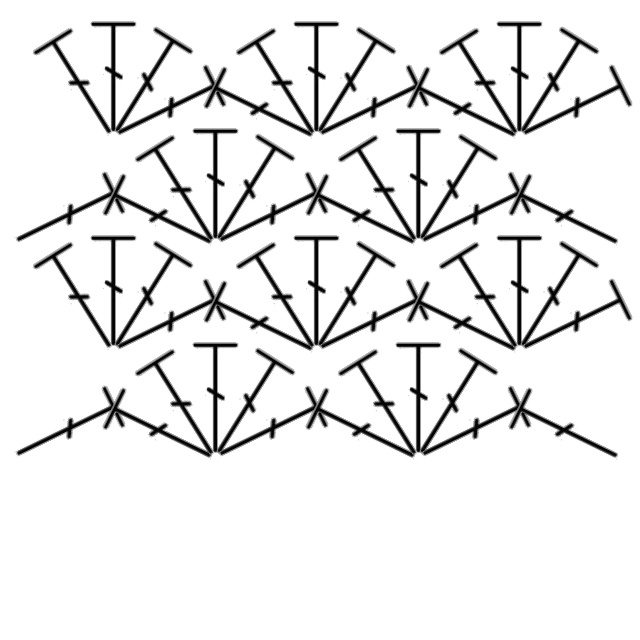double treble: (30, 22, 135, 149), (93, 22, 198, 149), (233, 22, 338, 149), (296, 22, 401, 149), (436, 22, 541, 149), (499, 22, 604, 149), (132, 129, 237, 256), (195, 129, 300, 256), (335, 129, 440, 256), (398, 129, 503, 256), (30, 236, 135, 363), (93, 236, 198, 363), (233, 236, 338, 363), (296, 236, 401, 363), (436, 236, 541, 363), (499, 236, 604, 363), (132, 343, 237, 470), (195, 343, 300, 470), (335, 343, 440, 470), (398, 343, 503, 470), (103, 61, 232, 158), (199, 61, 328, 158), (306, 61, 435, 158), (402, 61, 531, 158), (509, 61, 638, 158), (2, 168, 131, 265), (98, 168, 227, 265), (205, 168, 334, 265), (301, 168, 430, 265), (408, 168, 537, 265), (504, 168, 633, 265), (103, 275, 232, 372), (199, 275, 328, 372), (306, 275, 435, 372), (402, 275, 531, 372), (509, 275, 638, 372), (2, 382, 131, 479), (98, 382, 227, 479), (205, 382, 334, 479), (301, 382, 430, 479), (408, 382, 537, 479), (504, 382, 633, 479), (89, 17, 139, 136), (292, 17, 342, 136), (495, 17, 545, 136), (191, 124, 241, 243), (394, 124, 444, 243), (89, 231, 139, 350), (292, 231, 342, 350), (495, 231, 545, 350), (191, 338, 241, 457), (394, 338, 444, 457)
